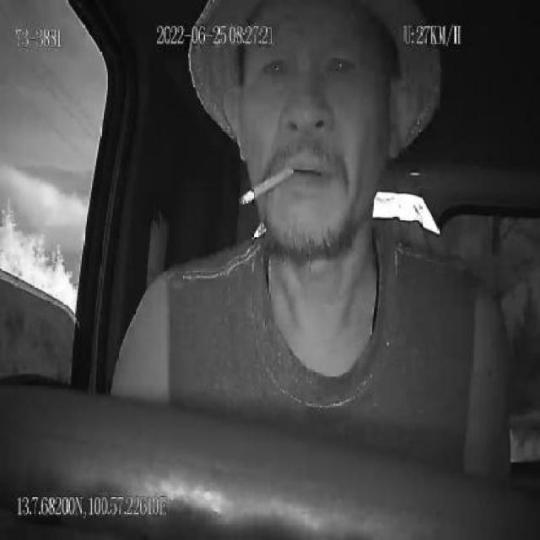smoking: (239, 165, 294, 206)
